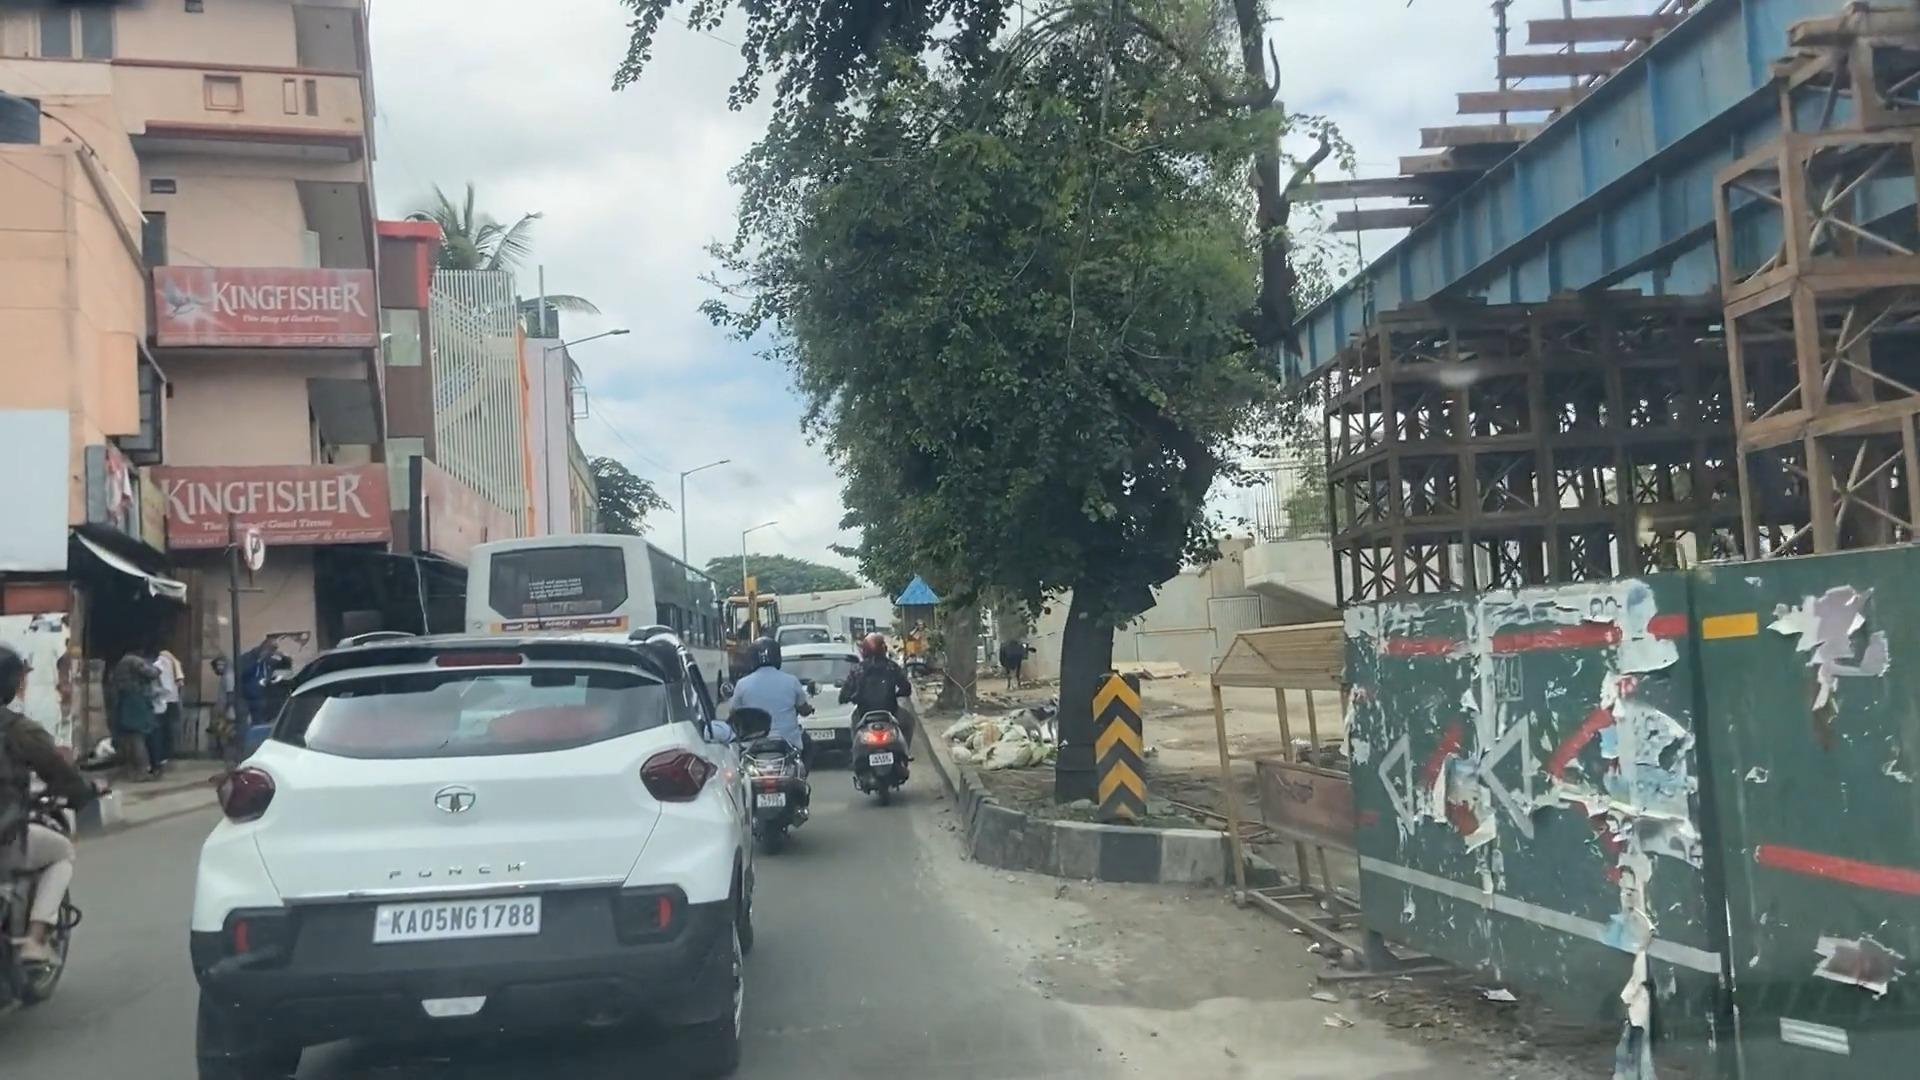LMV: (229, 662, 704, 1000), (732, 640, 815, 829), (852, 628, 910, 785)
RoadDamages: (936, 874, 1255, 1005)
